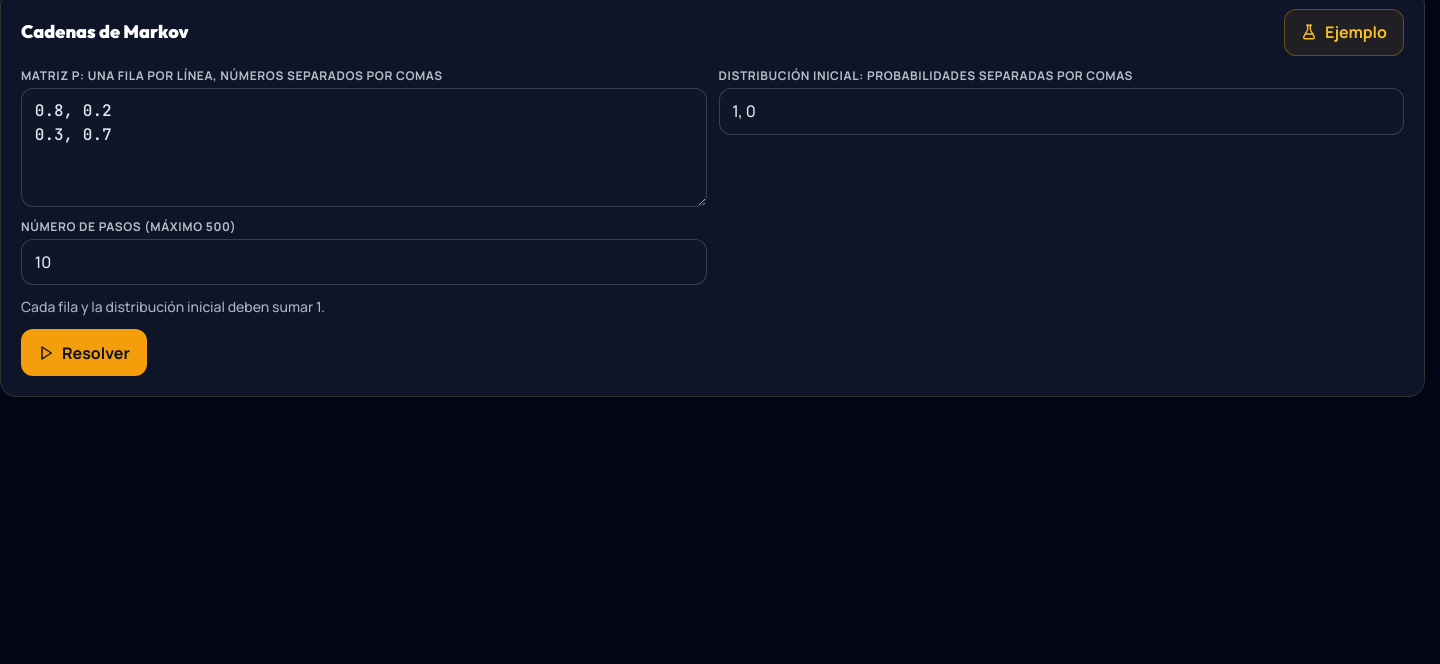
Test case: Markov resuelve el ejemplo inicial sin romper su vista
The image size is (1440, 664).
What coordinates should you click on to do the following:
click the button "Resolver"
I would click on:
 (84, 353)
Its box is [21, 329, 147, 376].
(page scrolled)
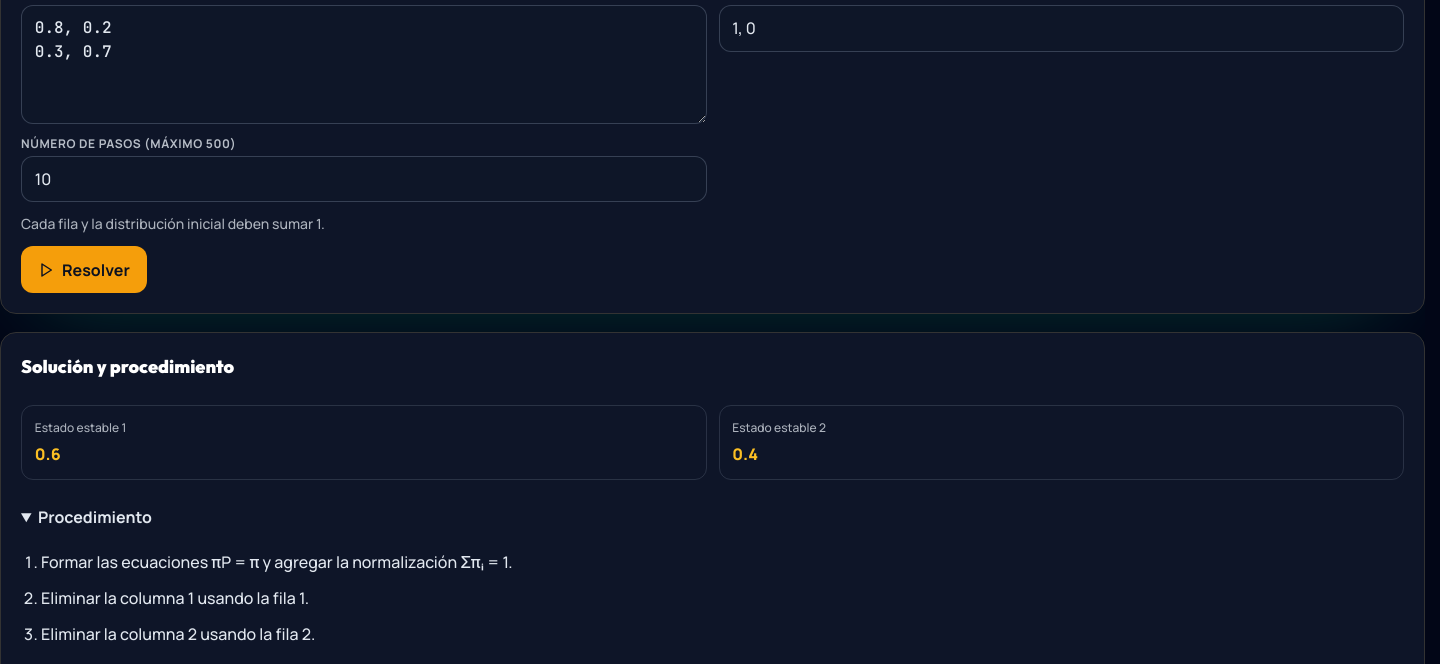
Check: the text "0.6" is shown, box [35, 443, 61, 465]
